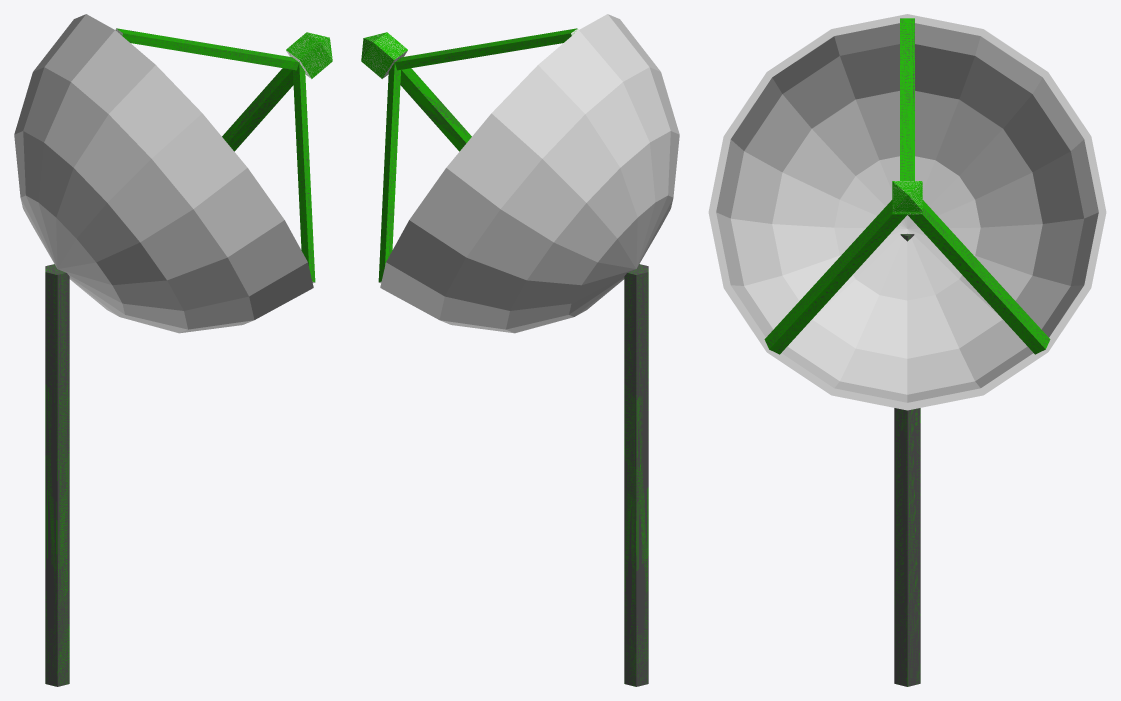
The model's file is satellite_dish.fbx.
The picture shows the model from 3 angles, left to right: view 1: azimuth 30°, elevation 25°; view 2: azimuth 150°, elevation 25°; view 3: azimuth 270°, elevation 25°; orthographic projection. The views are drawn at different scales.
Visible parts, largest first — view 1: Mesh2_Component_1_1 Component_3_1 Model, Mesh3_Model, Mesh1_Component_2_1 Component_3_1 Model; view 2: Mesh2_Component_1_1 Component_3_1 Model, Mesh3_Model, Mesh1_Component_2_1 Component_3_1 Model; view 3: Mesh2_Component_1_1 Component_3_1 Model, Mesh1_Component_2_1 Component_3_1 Model, Mesh3_Model.
Boxes of the visible parts, x1=… form: Mesh2_Component_1_1 Component_3_1 Model: x1=14, y1=14, x2=313, y2=333; Mesh3_Model: x1=45, y1=264, x2=69, y2=686; Mesh1_Component_2_1 Component_3_1 Model: x1=115, y1=28, x2=332, y2=283; Mesh2_Component_1_1 Component_3_1 Model: x1=380, y1=14, x2=679, y2=333; Mesh3_Model: x1=624, y1=264, x2=648, y2=686; Mesh1_Component_2_1 Component_3_1 Model: x1=361, y1=28, x2=578, y2=283; Mesh2_Component_1_1 Component_3_1 Model: x1=708, y1=14, x2=1106, y2=410; Mesh1_Component_2_1 Component_3_1 Model: x1=764, y1=18, x2=1050, y2=354; Mesh3_Model: x1=894, y1=234, x2=920, y2=686.
Size of the model in its own units: 0.4819 by 1.01 by 0.52.
